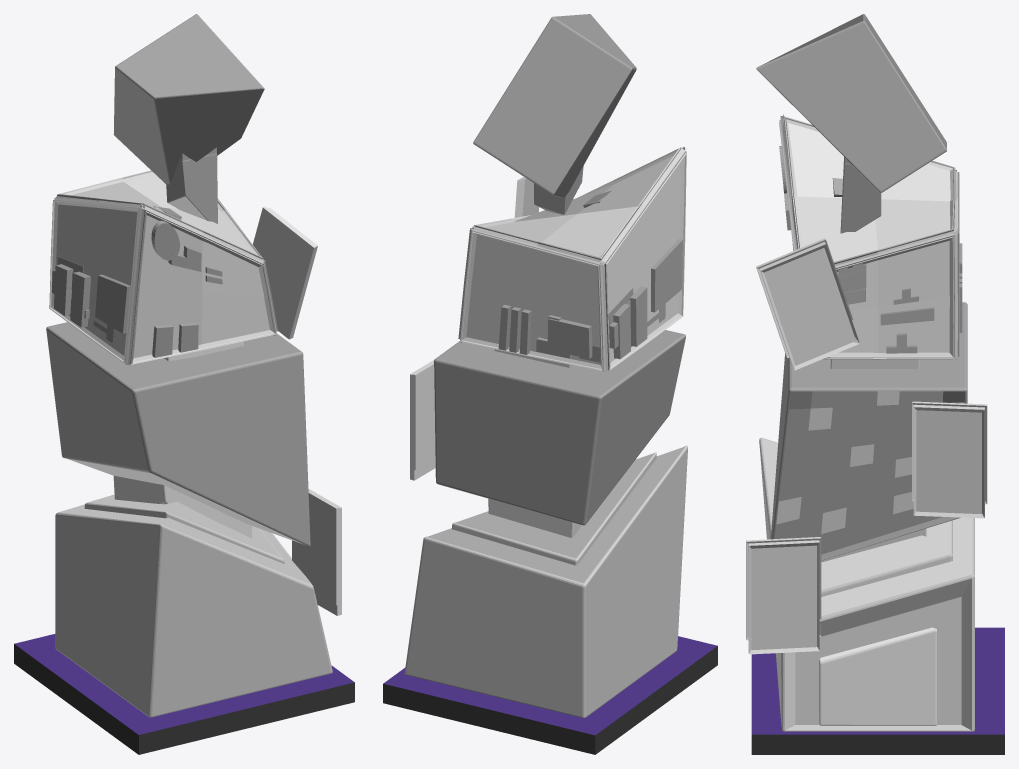
The model's file is building_2.fbx.
3 views of the same model, side by side, from view 1: azimuth 30°, elevation 25°; view 2: azimuth 150°, elevation 25°; view 3: azimuth 270°, elevation 25° (orthographic). The views are drawn at different scales.
Visible parts, largest first — view 1: Cube.080, Cube.081, Cube.083, Cube.088, Building Segment.008, Billboard 2.001|Billboard 1.006|Dupli|1, Billboard 2.002|Billboard 1.006|Dupli|1, Cube.086, Cube.089, Cube.084, Billboard 2.002|Billboard 1.005|Dupli|; view 2: Cube.080, Cube.083, Cube.081, Cube.088, Building Segment.008, Cube.086, Billboard 2|Billboard 1.006|Dupli|1, Cube.084, Cube.089, Billboard 2|Billboard 1.005|Dupli|; view 3: Cube.083, Cube.081, Cube.080, Cube.088, Building Segment.008, Cube.087, Billboard 2|Billboard 1.007|Dupli|2, Billboard 2.002|Billboard 1.007|Dupli|2, Billboard 2.001|Billboard 1.007|Dupli|2, Cube.086, Cube.085, Cube.089 (+8 smaller).
Boxes of the visible parts, <box> form: Cube.080: <box>55,504,332,717</box>; Cube.081: <box>46,322,310,546</box>; Cube.083: <box>49,170,277,365</box>; Cube.088: <box>113,14,264,184</box>; Building Segment.008: <box>14,634,354,754</box>; Billboard 2.001|Billboard 1.006|Dupli|1: <box>253,206,316,331</box>; Billboard 2.002|Billboard 1.006|Dupli|1: <box>292,490,338,605</box>; Cube.086: <box>84,494,284,563</box>; Cube.089: <box>166,147,217,223</box>; Cube.084: <box>113,475,251,538</box>; Billboard 2.002|Billboard 1.005|Dupli|: <box>308,488,341,615</box>; Cube.080: <box>404,445,687,717</box>; Cube.083: <box>458,146,686,372</box>; Cube.081: <box>434,330,685,525</box>; Cube.088: <box>473,14,636,197</box>; Building Segment.008: <box>383,636,717,754</box>; Cube.086: <box>452,452,656,565</box>; Billboard 2|Billboard 1.006|Dupli|1: <box>412,362,435,470</box>; Cube.084: <box>488,498,581,537</box>; Cube.089: <box>534,166,583,214</box>; Billboard 2|Billboard 1.005|Dupli|: <box>410,360,435,480</box>; Cube.083: <box>779,114,962,359</box>; Cube.081: <box>770,302,967,560</box>; Cube.080: <box>759,437,974,731</box>; Cube.088: <box>756,14,946,192</box>; Building Segment.008: <box>751,627,1004,754</box>; Cube.087: <box>819,627,937,725</box>; Billboard 2|Billboard 1.007|Dupli|2: <box>916,411,981,514</box>; Billboard 2.002|Billboard 1.007|Dupli|2: <box>751,546,816,650</box>; Billboard 2.001|Billboard 1.007|Dupli|2: <box>764,249,855,365</box>; Cube.086: <box>821,520,952,596</box>; Cube.085: <box>776,391,913,534</box>; Cube.089: <box>840,157,881,233</box>.
Bounding box in the file's own units: 800 × 2381 × 818.
